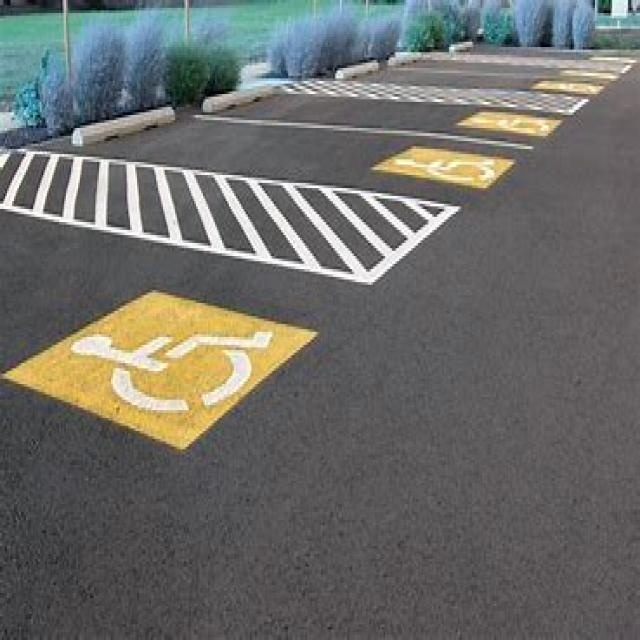ISA: (70, 312, 276, 422), (393, 144, 495, 188)
